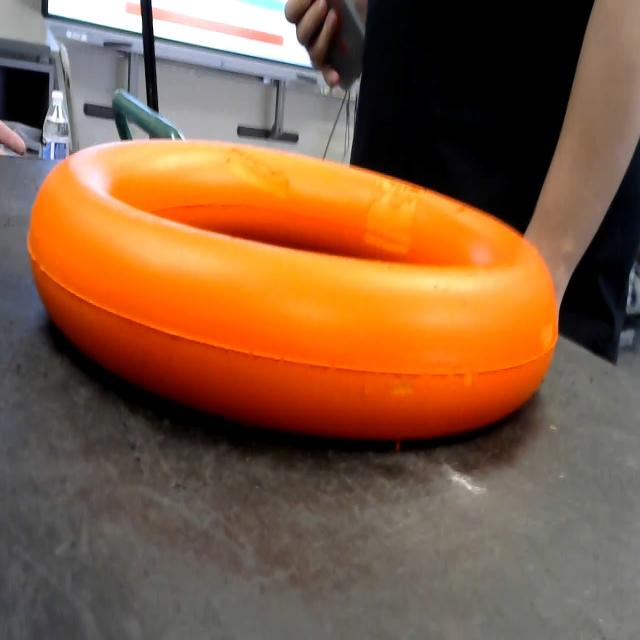note: (22, 128, 579, 470)
